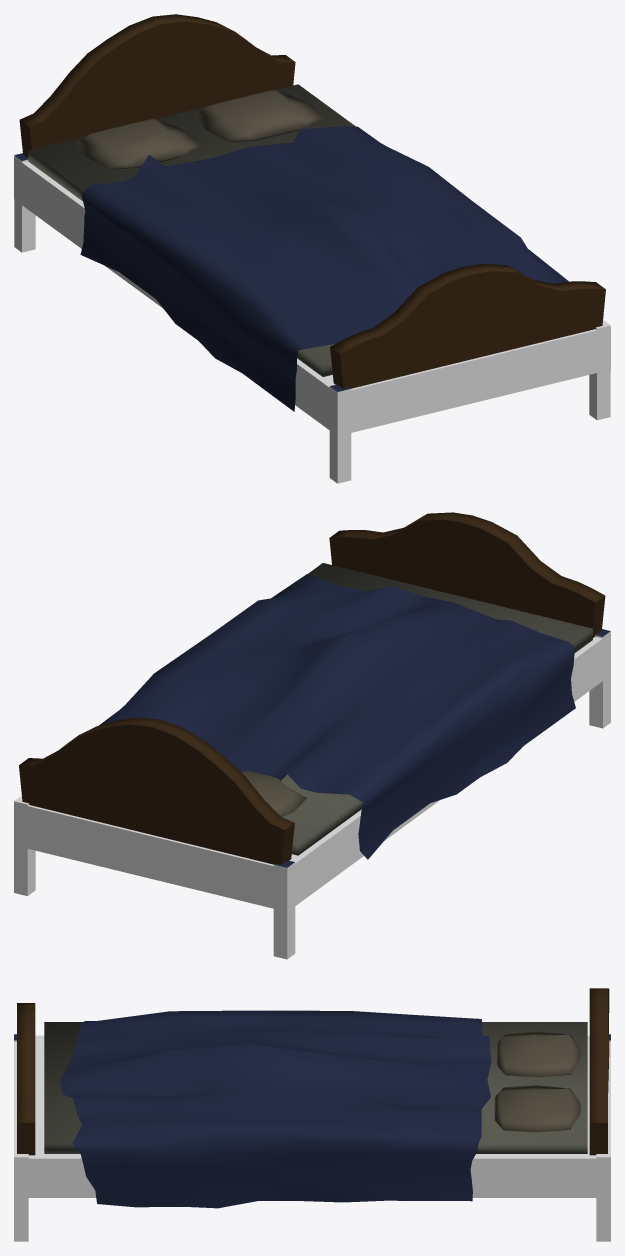
File: RPG-Bed.glb
The picture shows the model from 3 angles, top to bottom: view 1: azimuth 30°, elevation 25°; view 2: azimuth 150°, elevation 25°; view 3: azimuth 270°, elevation 25°; orthographic projection. The views are drawn at different scales.
Visible parts, largest first — view 1: real_matress_Cube.007; view 2: real_matress_Cube.007; view 3: real_matress_Cube.007.
Part boxes in pixels (x1,y1,x2,y2): real_matress_Cube.007: (14,14,610,483); real_matress_Cube.007: (14,512,610,959); real_matress_Cube.007: (14,988,610,1241).
Size of the model in its own units: 2.11 by 1.38 by 4.1.
